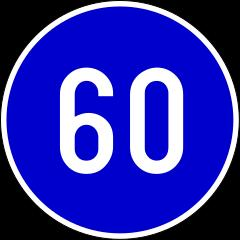Speed Limit -60-: (41, 57, 199, 190)
